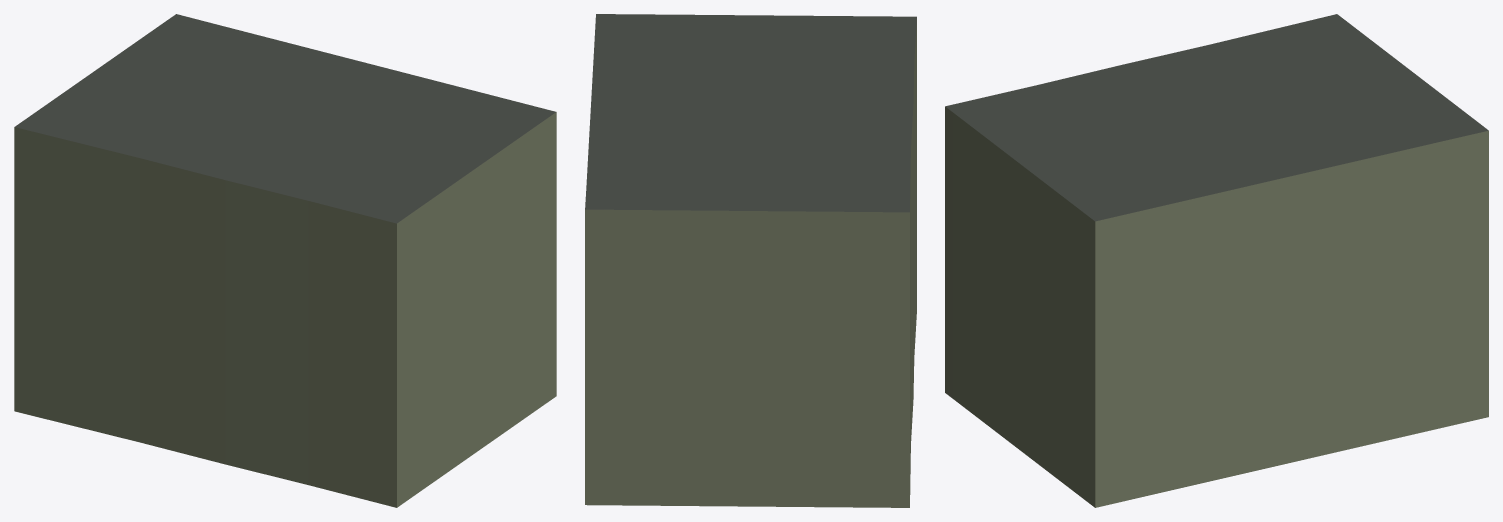
Rendered from nyc-1022617-0.glb.
3 views of the same model, side by side, from view 1: azimuth 30°, elevation 25°; view 2: azimuth 150°, elevation 25°; view 3: azimuth 270°, elevation 25° (orthographic). The views are drawn at different scales.
Visible parts, largest first — view 1: nyc-1022617-0; view 2: nyc-1022617-0; view 3: nyc-1022617-0.
Boxes of the visible parts, box(x1,y1,x2,y2) form: nyc-1022617-0: box(14, 14, 556, 507); nyc-1022617-0: box(585, 14, 916, 507); nyc-1022617-0: box(945, 14, 1488, 507).
Size of the model in its own units: 37.2 by 23.95 by 41.21.
